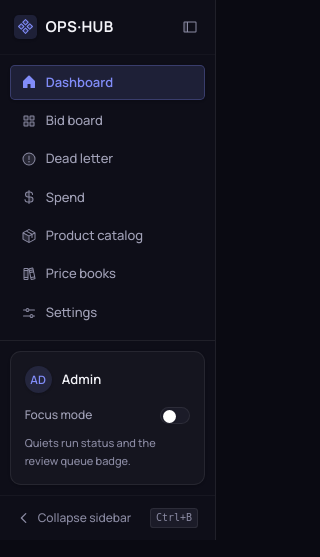
Scenario: Rail (Collapsible Sidebar) › expands back when clicking the expand button
This screenshot has width=320, height=557.
Click the button named "Collapse sidebar". click: {"x": 190, "y": 27}
box: [178,15,202,39]
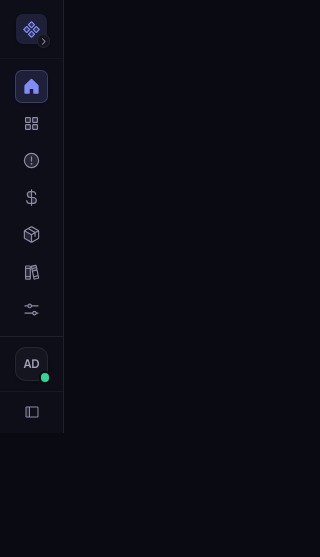
Click the 1st button named "Expand sidebar". click: {"x": 32, "y": 29}
box: [16,14,47,44]
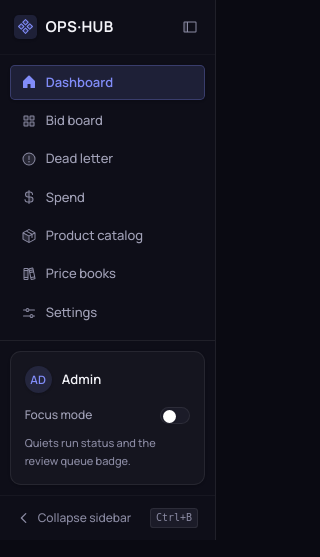
expect the text "OPS·HUB" is shown: met, box [46,16,114,38]
expect the text "Dashboard" is shown: met, box [46,72,113,90]
